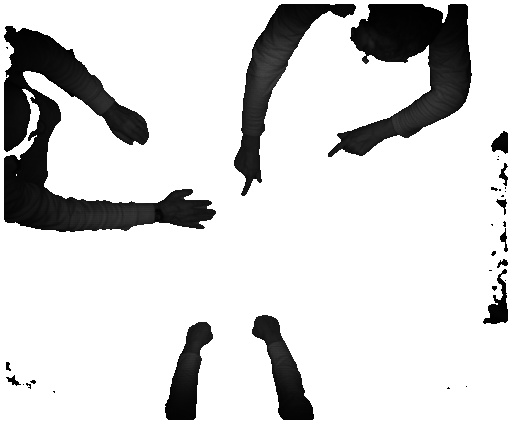fist: (176, 320, 215, 352), (248, 312, 287, 342)
hand: (161, 186, 215, 231), (107, 106, 151, 151), (328, 123, 382, 159), (232, 145, 263, 199)
